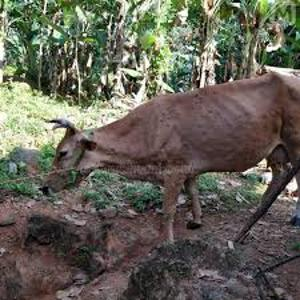lumpy skin diesease: (40, 69, 299, 246)
